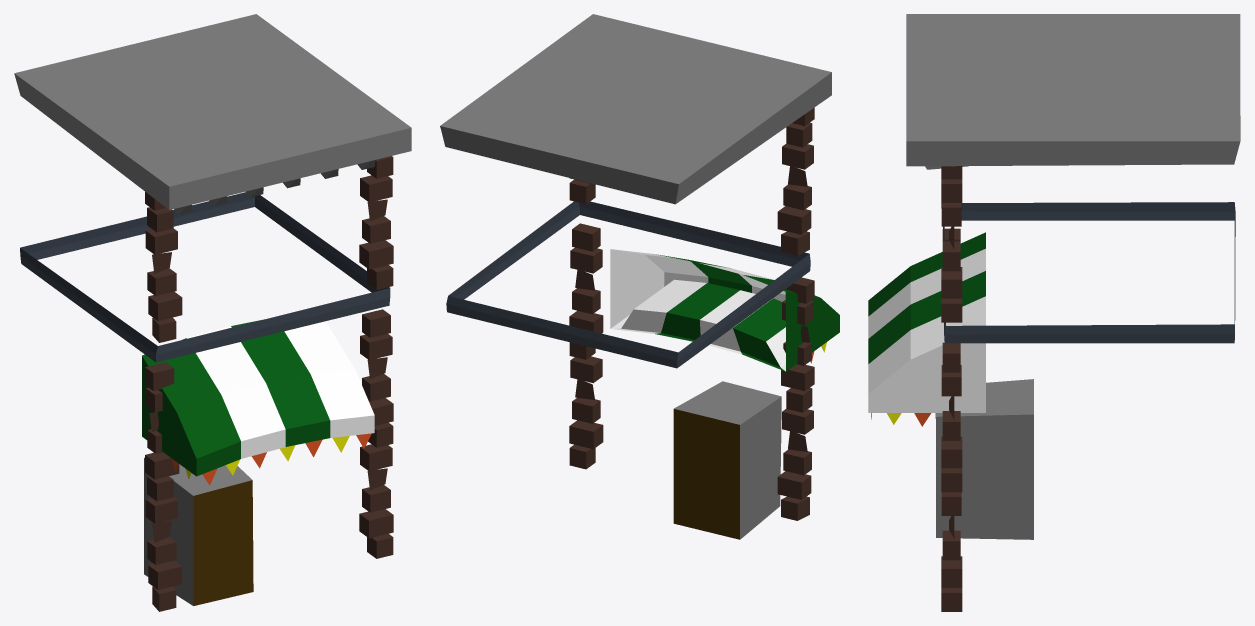
File: PredioGenerico1AzulLOD1.fbx
The picture shows the model from 3 angles, left to right: view 1: azimuth 30°, elevation 25°; view 2: azimuth 150°, elevation 25°; view 3: azimuth 270°, elevation 25°; orthographic projection. The views are drawn at different scales.
Parts seen in each view (by area): view 1: LojaGenericaLOD1, ToldoLOD1; view 2: LojaGenericaLOD1, ToldoLOD1; view 3: LojaGenericaLOD1, ToldoLOD1.
Part boxes in pixels (left/top/right/bottom): LojaGenericaLOD1: left=14, top=14, right=411, bottom=611; ToldoLOD1: left=142, top=319, right=374, bottom=476; LojaGenericaLOD1: left=440, top=14, right=831, bottom=539; ToldoLOD1: left=610, top=249, right=839, bottom=371; LojaGenericaLOD1: left=871, top=14, right=1240, bottom=611; ToldoLOD1: left=868, top=232, right=985, bottom=412.
Size of the model in its own units: 403 by 699 by 498.
